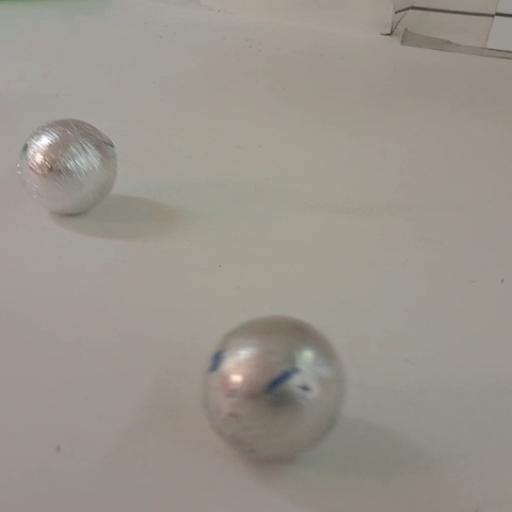alive: (197, 309, 350, 462), (17, 118, 119, 217)
